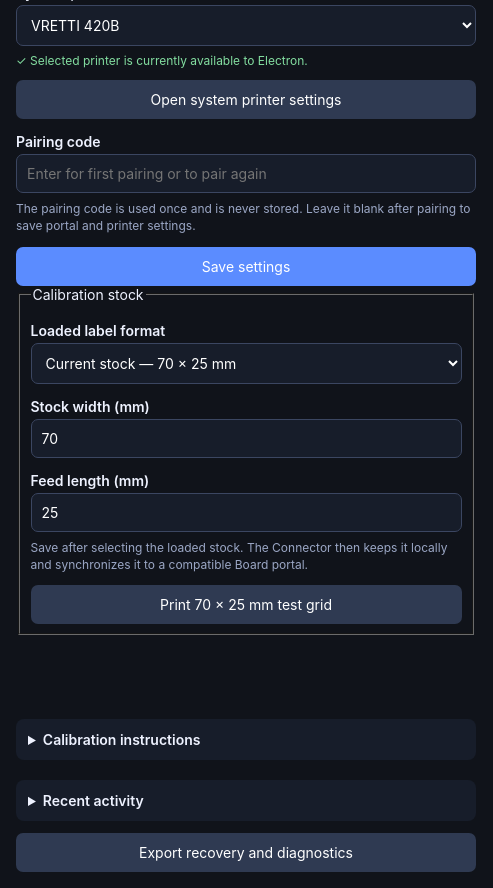
Test: React settings renderer › prints the entered stock size and rejects invalid dimensions before IPC
(page scrolled)
Replace the text in the number field labelled "Stock width (mm)" with "60" at x=246, y=438, box [30,419,462,458]
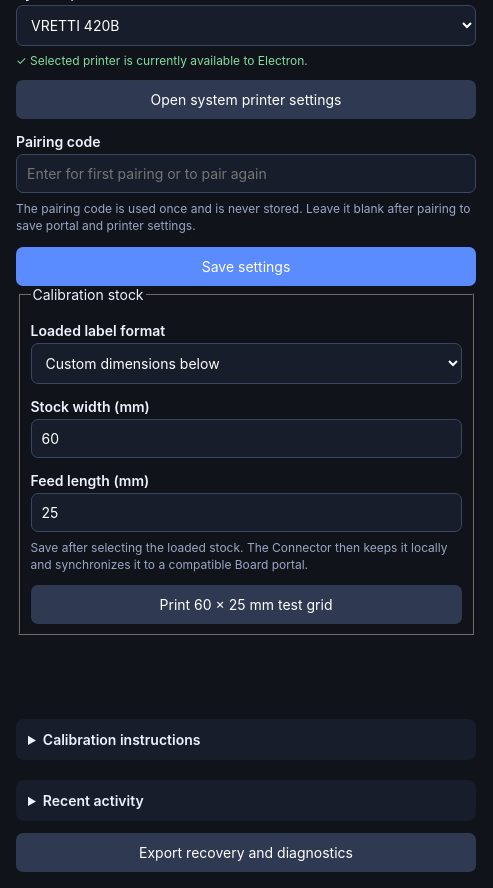
Replace the text in the number field labelled "Feed length (mm)" with "40" at x=246, y=512, box [30,493,462,532]
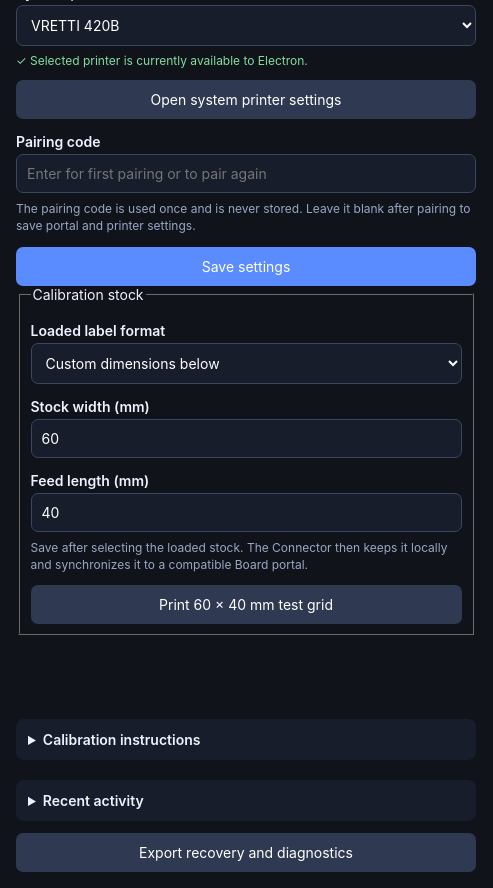
Click the button "Print 60 × 40 mm test grid" at x=246, y=605, box [30,585,462,624]
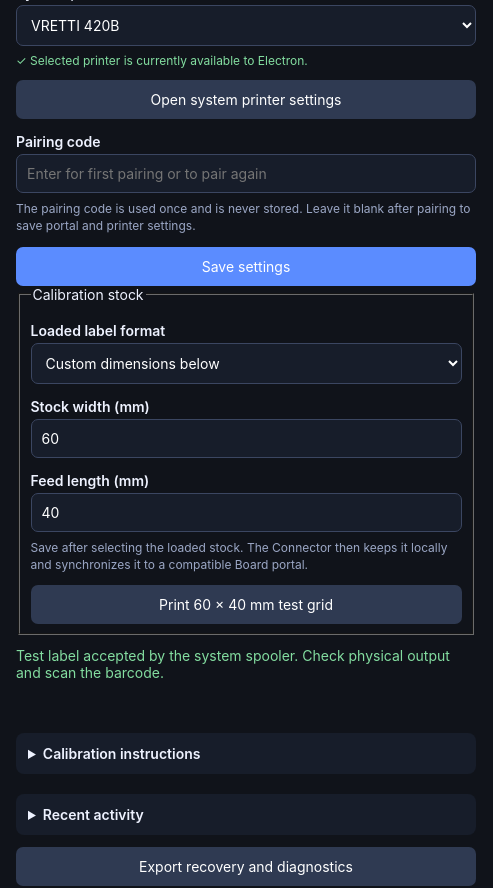
Expected: the text "Test label accepted" is shown, [16,647,450,681]
Replace the text in the number field labelled "Stock width (mm)" with "10" at x=246, y=438, box [30,419,462,458]
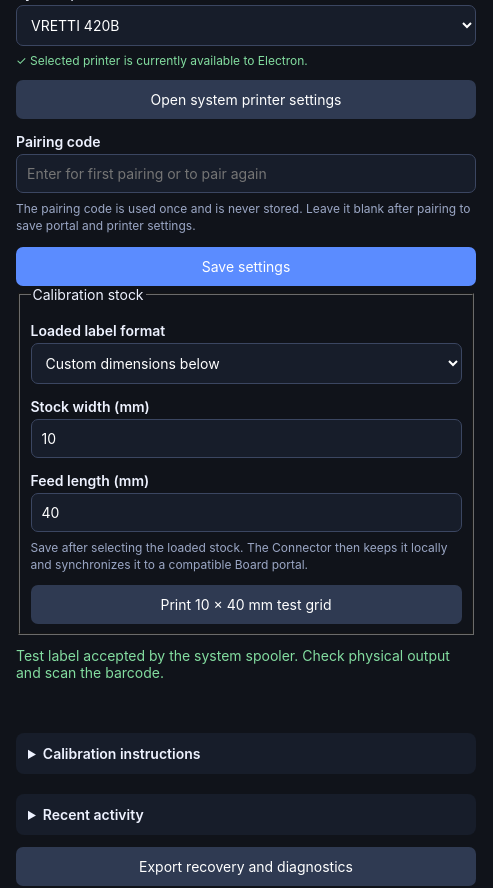
Click the button "Print 10 × 40 mm test grid" at x=246, y=605, box [30,585,462,624]
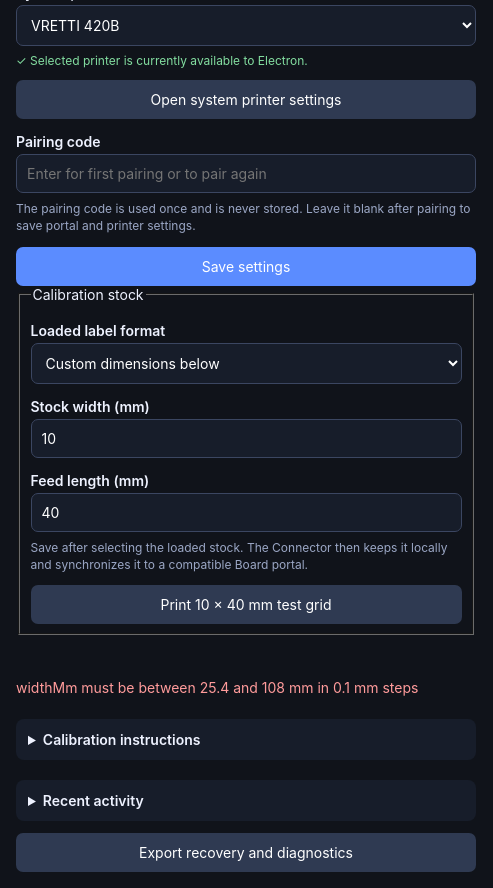
Expected: the message shows "widthMm must be between 25.4 and 108 mm", [16,679,418,696]
